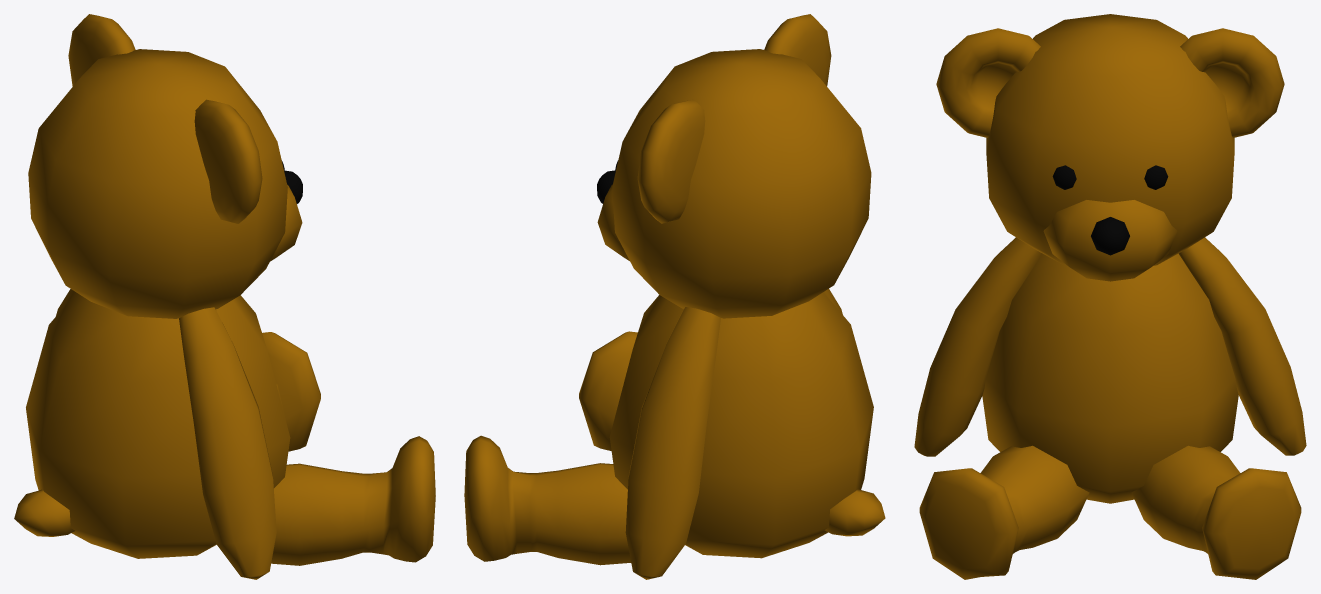
The model's file is TeddyBearOFDOOM.fbx.
The picture shows the model from 3 angles, left to right: view 1: azimuth 30°, elevation 25°; view 2: azimuth 150°, elevation 25°; view 3: azimuth 270°, elevation 25°; orthographic projection. The views are drawn at different scales.
Parts seen in each view (by area): view 1: polySurface74, polySurface75, polySurface70, polySurface65, polySurface69; view 2: polySurface74, polySurface75, polySurface73, polySurface69, polySurface65; view 3: polySurface74, polySurface75, polySurface69, polySurface65, polySurface70, polySurface73.
Boxes of the visible parts, box(x1,y1,x2,y2) form: polySurface74: box(28, 14, 302, 318); polySurface75: box(14, 292, 290, 558); polySurface70: box(179, 307, 276, 579); polySurface65: box(271, 436, 435, 565); polySurface69: box(262, 332, 320, 451); polySurface74: box(597, 14, 871, 318); polySurface75: box(609, 292, 885, 558); polySurface73: box(625, 307, 720, 579); polySurface69: box(464, 435, 631, 565); polySurface65: box(579, 331, 637, 450); polySurface74: box(936, 14, 1284, 281); polySurface75: box(982, 253, 1238, 503); polySurface69: box(1131, 445, 1301, 579); polySurface65: box(919, 445, 1089, 579); polySurface70: box(914, 237, 1042, 456); polySurface73: box(1178, 237, 1306, 455).
Size of the model in its own units: 7.39 by 9.57 by 7.26.
Materials: 1 (1 with a texture image).
